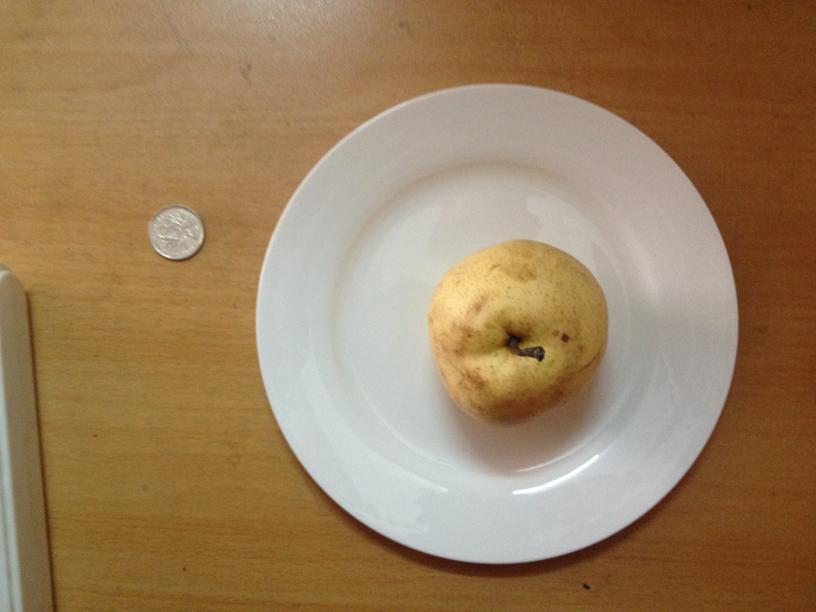coin: (147, 207, 206, 259)
pear: (431, 238, 605, 428)
